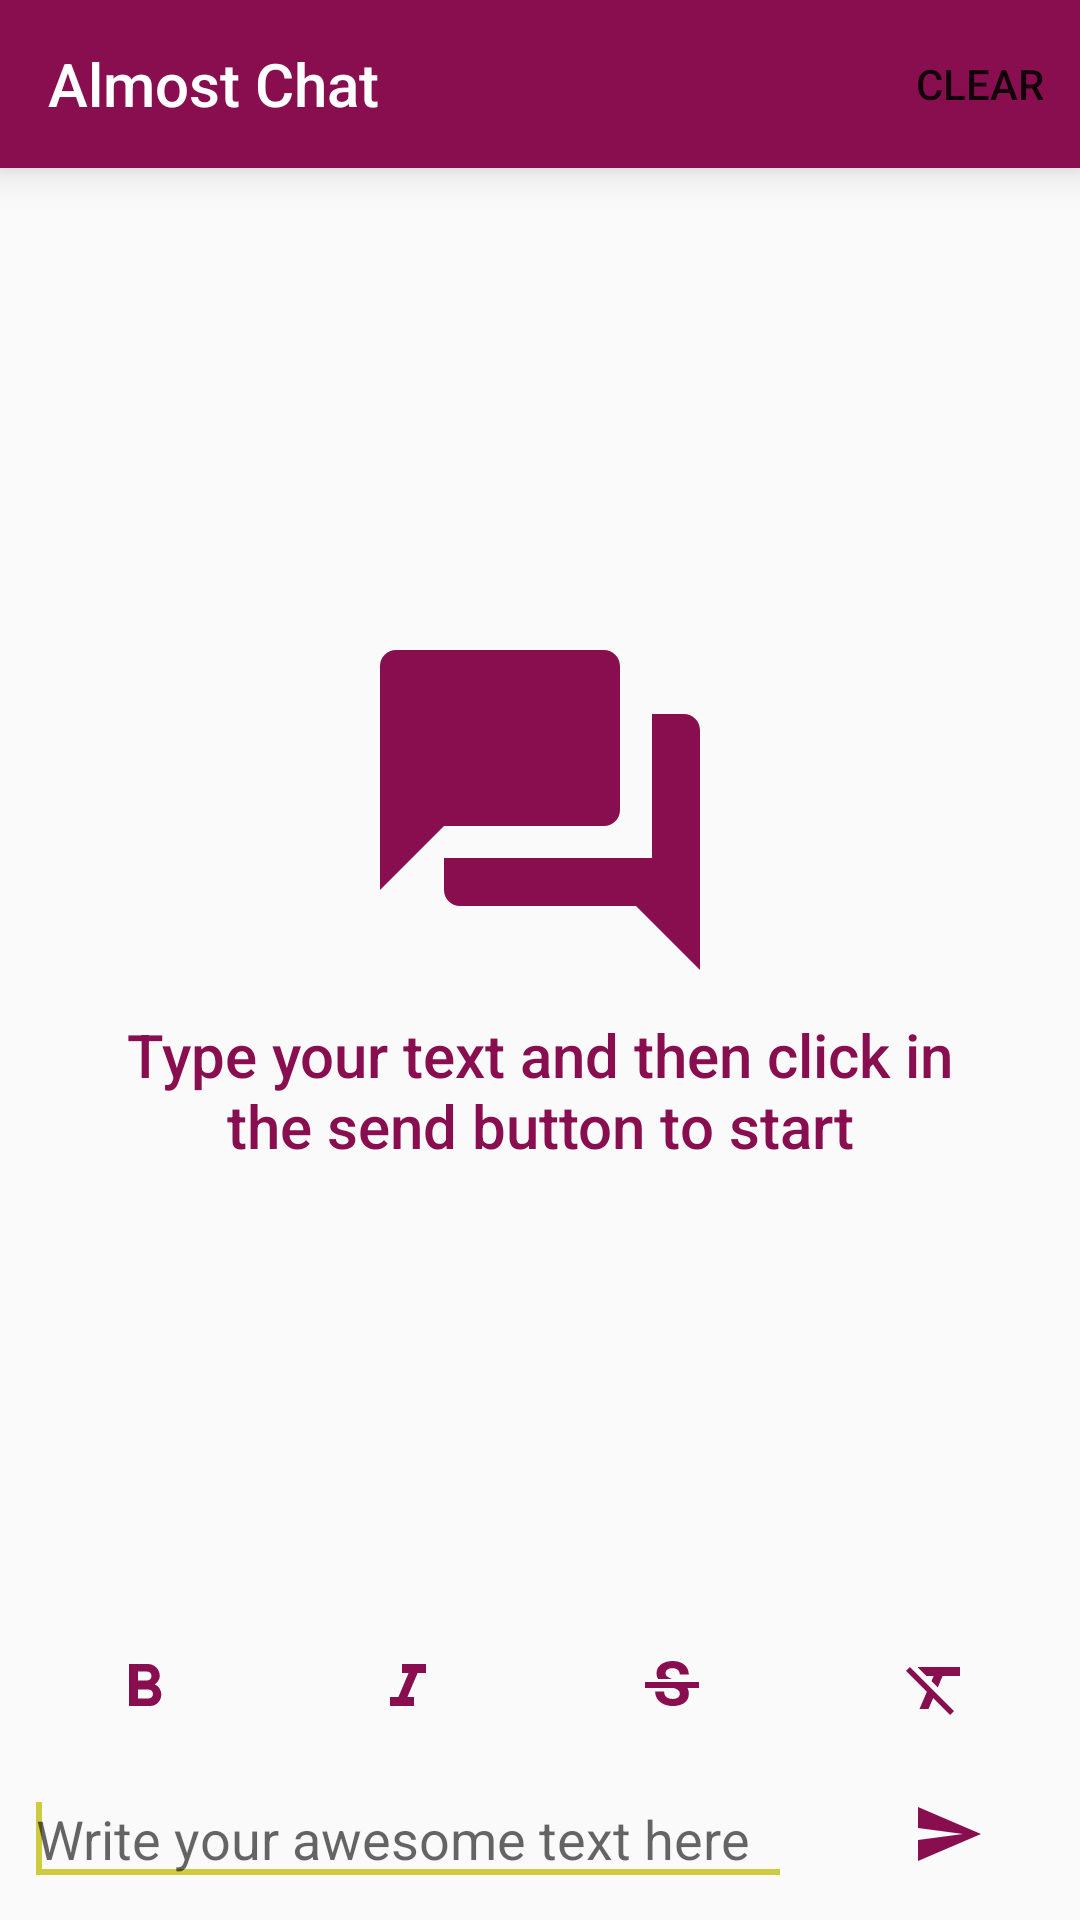

Icon bounding boxes for this 1080px x 1920px phone screenshot, format (x1,y1,x2,y2):
Bold: (129,1664,162,1706)
Clear Format: (906,1667,960,1715)
forum: (380,650,700,970)
Italic: (390,1664,426,1706)
Send: (918,1807,981,1861)
Strike Through: (645,1661,699,1706)
